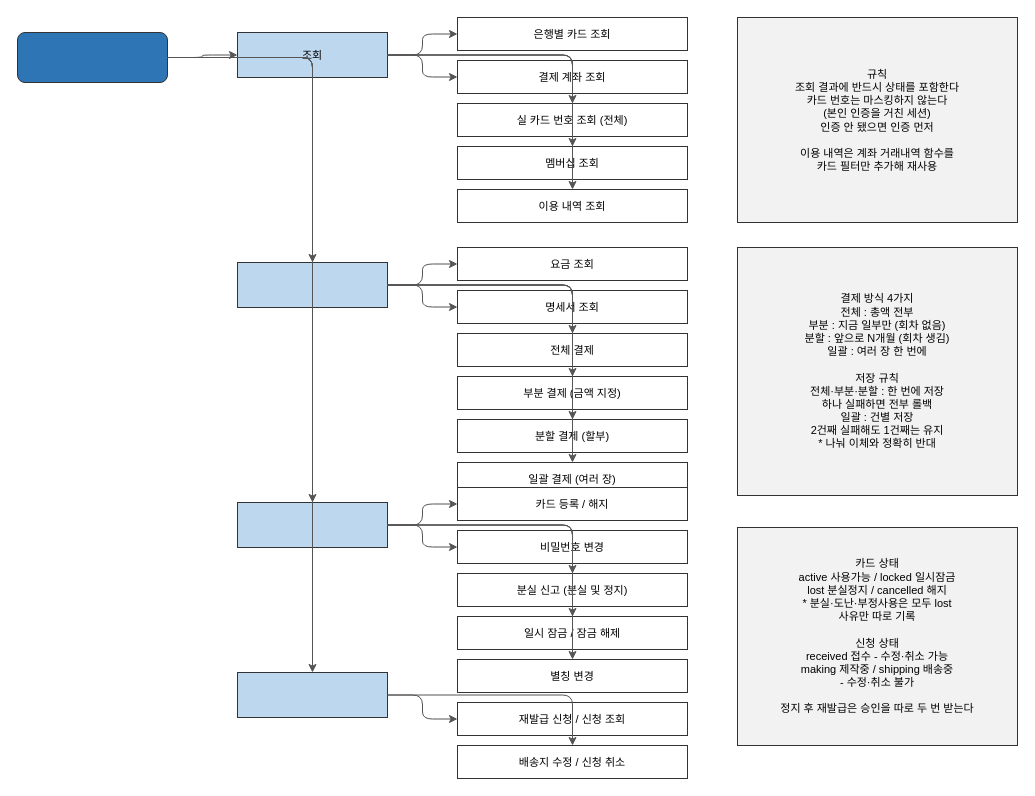
Some shapes in this 1035 by 796 pixel diagram are drawn without their labels. The shapes that lost their labels are listed below. From the top down, each one's centre as x and y in pixels, then its label:
At point (92, 57): "카드 CardAgent".
At point (312, 285): "결제".
At point (312, 525): "설정".
At point (312, 695): "재발급".
